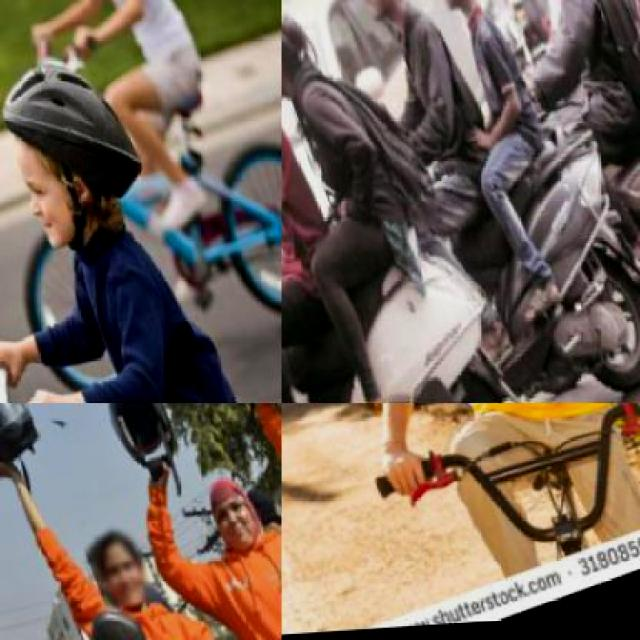With Helmet: (0, 32, 163, 266)
Without Helmet: (74, 520, 155, 620), (192, 471, 271, 572), (282, 9, 316, 108), (333, 0, 418, 35), (422, 0, 480, 23)
